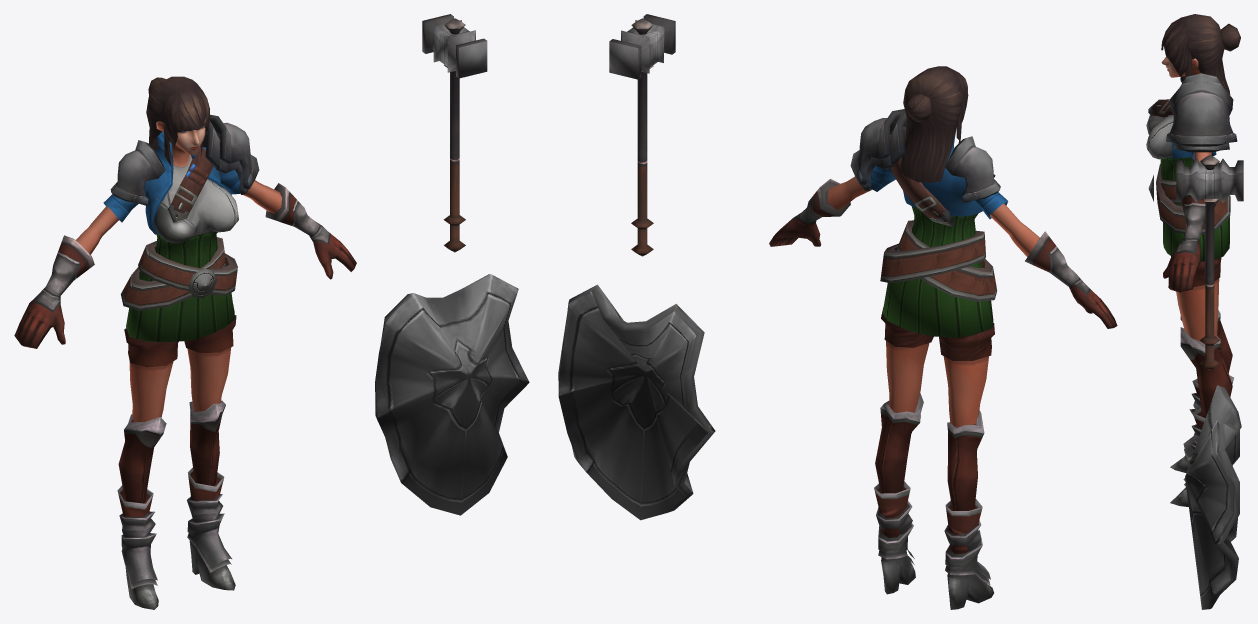
3 views of the same model, side by side, from view 1: azimuth 30°, elevation 25°; view 2: azimuth 150°, elevation 25°; view 3: azimuth 270°, elevation 25° (orthographic). The views are drawn at different scales.
Parts seen in each view (by area): view 1: Theresa_Body; view 2: Theresa_Body; view 3: Theresa_Body.
Part boxes in pixels (x1,y1,x2,y2): Theresa_Body: (14,14,529,609); Theresa_Body: (558,14,1117,609); Theresa_Body: (1146,14,1243,609).
Size of the model in its own units: 1.87 by 1.73 by 0.3251.
1 material, 1 textured.
